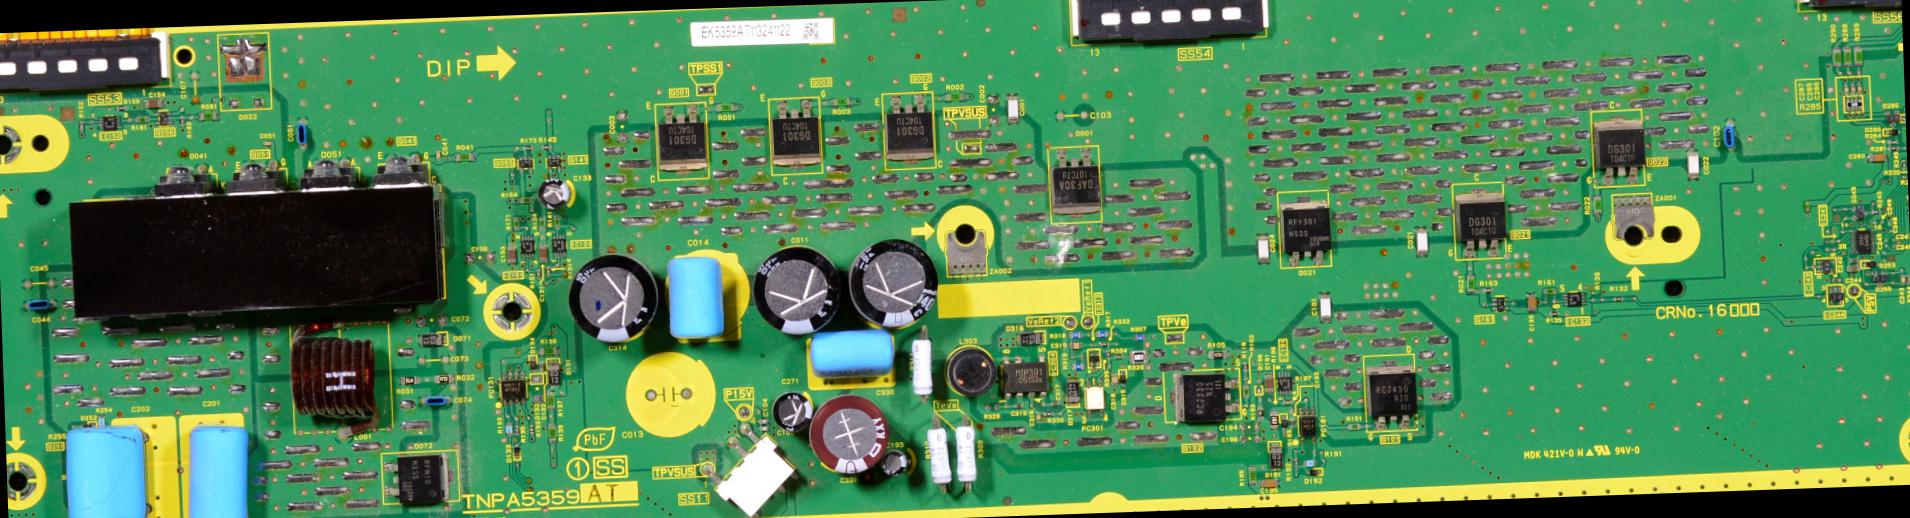Capacitor Jumper: (63, 424, 160, 517), (748, 250, 850, 336), (850, 238, 938, 332), (180, 419, 258, 517), (666, 250, 740, 348), (808, 394, 892, 478), (804, 328, 901, 390), (806, 325, 891, 385), (762, 389, 822, 441), (533, 177, 582, 216), (1310, 287, 1338, 324), (1408, 224, 1434, 262), (20, 294, 60, 317), (610, 110, 634, 148), (1256, 230, 1276, 270), (1003, 92, 1028, 122), (1684, 150, 1706, 182), (1522, 292, 1545, 320), (140, 94, 170, 108), (1263, 374, 1280, 396), (1868, 148, 1890, 164), (1258, 476, 1280, 490), (504, 246, 518, 266), (538, 242, 550, 264), (433, 146, 447, 162), (1110, 371, 1120, 392), (261, 138, 278, 150), (1065, 340, 1085, 350), (1032, 408, 1042, 426), (1846, 264, 1860, 274), (1848, 83, 1857, 96), (1841, 81, 1848, 95), (1050, 400, 1064, 407), (1014, 402, 1026, 410), (1291, 418, 1298, 431), (1847, 258, 1862, 263), (1900, 276, 1906, 288), (1858, 84, 1864, 95)
Connector: (1061, 0, 1301, 63), (0, 27, 175, 91), (1782, 0, 1902, 33)
IC: (994, 360, 1054, 397), (1822, 282, 1850, 313), (95, 111, 123, 137), (1851, 230, 1877, 256), (1808, 256, 1842, 274), (1562, 290, 1588, 311)
Resistor Jumper: (918, 424, 955, 489), (906, 333, 938, 401), (948, 427, 981, 486), (1586, 190, 1608, 222), (1839, 96, 1869, 117), (943, 86, 973, 104), (200, 108, 226, 128), (715, 100, 740, 118), (544, 422, 562, 444), (396, 375, 424, 389), (1207, 348, 1232, 362), (134, 112, 153, 130), (1540, 280, 1561, 296), (1464, 271, 1478, 293), (1128, 352, 1148, 367), (538, 344, 562, 356), (1048, 408, 1070, 421), (546, 391, 560, 411), (435, 370, 454, 384), (1247, 466, 1259, 488), (1830, 48, 1843, 68), (1852, 46, 1864, 67), (1345, 422, 1365, 434), (1240, 384, 1252, 402), (1270, 411, 1282, 429), (1241, 358, 1253, 374), (1280, 413, 1290, 432), (509, 214, 520, 231), (982, 403, 1000, 413), (1133, 332, 1149, 343), (1255, 406, 1266, 422), (503, 419, 512, 438), (1094, 329, 1110, 339), (1068, 330, 1084, 340), (1844, 46, 1851, 68), (95, 415, 107, 427), (538, 216, 546, 233), (553, 215, 562, 230), (1111, 352, 1126, 361), (1480, 287, 1499, 294), (113, 103, 129, 111), (1886, 144, 1901, 152), (514, 425, 522, 440), (1097, 340, 1111, 348), (1292, 458, 1300, 472), (1590, 284, 1599, 295), (1280, 398, 1294, 405), (520, 198, 532, 206), (1613, 296, 1625, 304), (1074, 364, 1086, 372), (1105, 350, 1114, 360), (1886, 138, 1900, 144), (546, 266, 552, 280), (536, 267, 542, 280), (1900, 160, 1907, 170), (1871, 210, 1881, 216), (1906, 274, 1909, 288)
Transistor: (564, 253, 666, 345), (863, 92, 944, 178), (648, 97, 716, 186), (766, 92, 829, 170), (1361, 360, 1429, 432), (1169, 366, 1241, 427), (1589, 115, 1650, 180), (1452, 198, 1509, 249), (1488, 292, 1510, 318), (150, 108, 176, 129), (550, 234, 570, 259), (545, 151, 568, 172), (517, 236, 534, 260), (516, 155, 536, 172)
